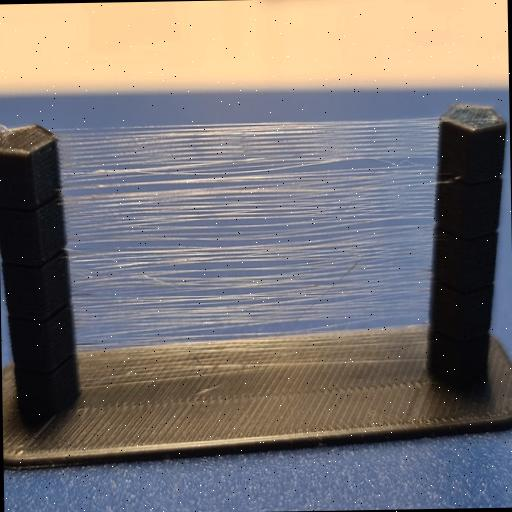stringing: (54, 117, 440, 388)
